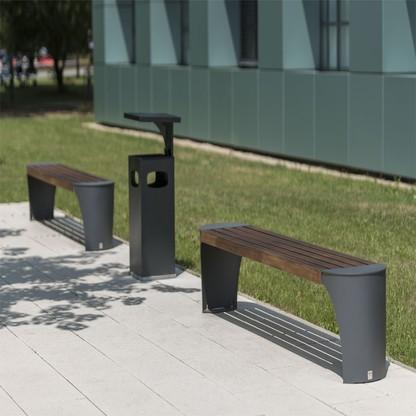obstacle: (185, 205, 399, 391), (17, 160, 119, 261)
